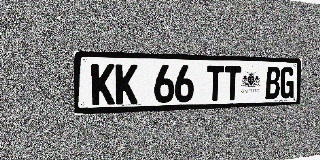6: (154, 65, 175, 103), (175, 65, 194, 102)
B: (265, 67, 281, 99)
G: (280, 67, 295, 99)
K: (91, 63, 115, 105), (116, 64, 138, 105)
T: (206, 66, 224, 101), (224, 66, 241, 101)
